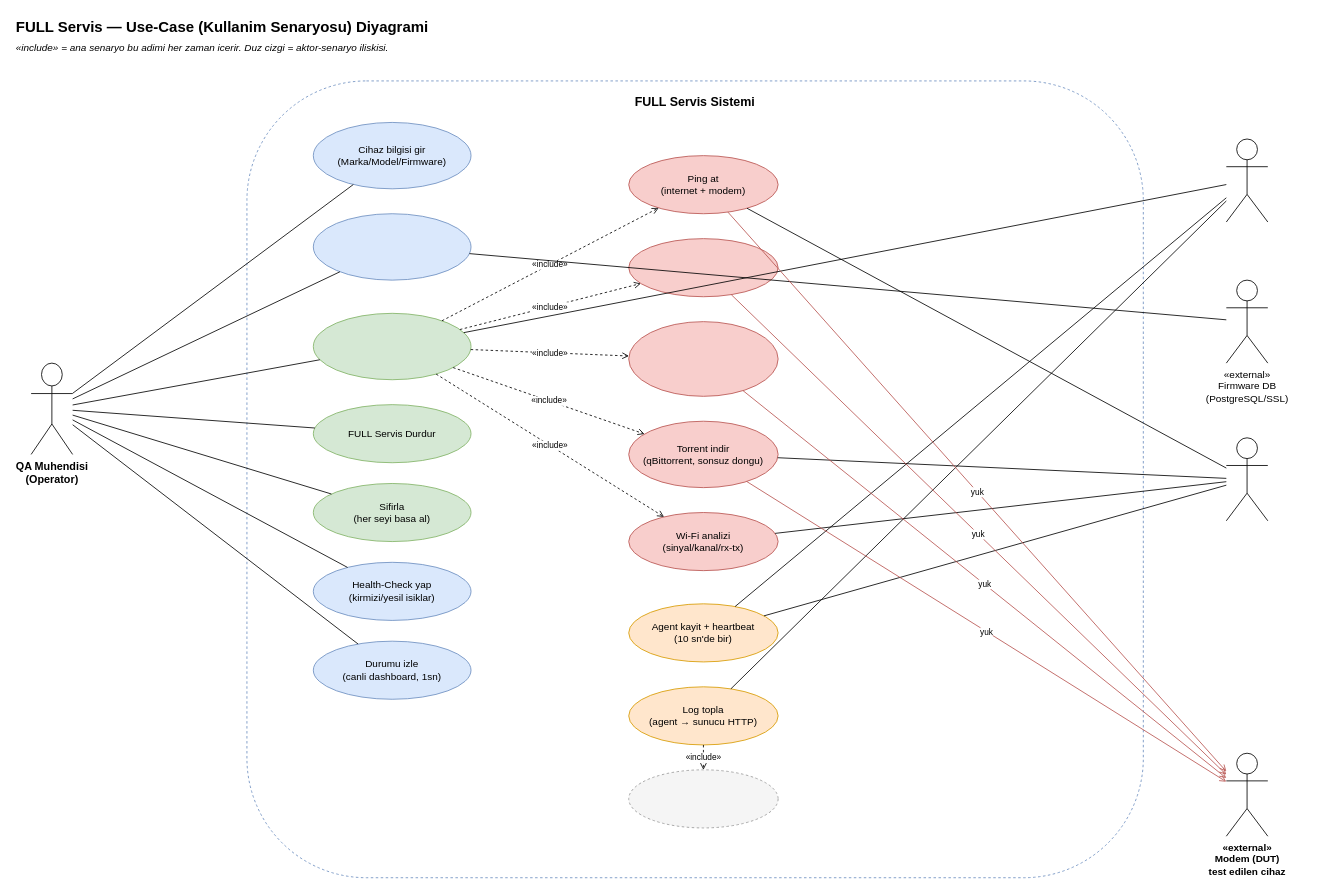
This 1334x892 diagram has some shape labels left out. Each missing label, with the centre of its shape:
FULL Servis Baslat: point 391,346
iperf yuk testi (kablolu Mac server ↔ wifi Mac client): point 703,358
Log → FTP + DB (Faz 5, henuz yok): point 703,798
Marka/Model/Firmware sec (DB'den): point 391,246
YouTube oynat (en yuksek kalite): point 703,267
«system» Agent Makineler (Mac kablo / Mac wifi / Windows): point 1246,479
«system» Linux Sunucu (Orkestrator): point 1246,180
